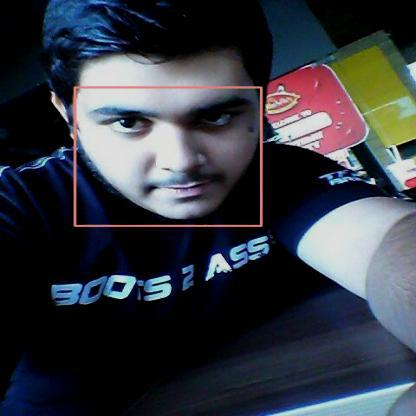without_mask: (74, 87, 261, 226)
